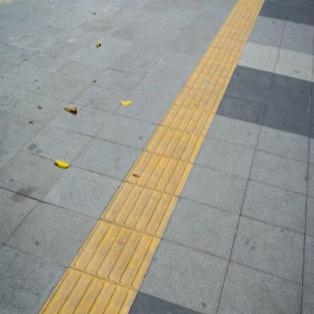Podoctatil: (39, 3, 264, 311)
